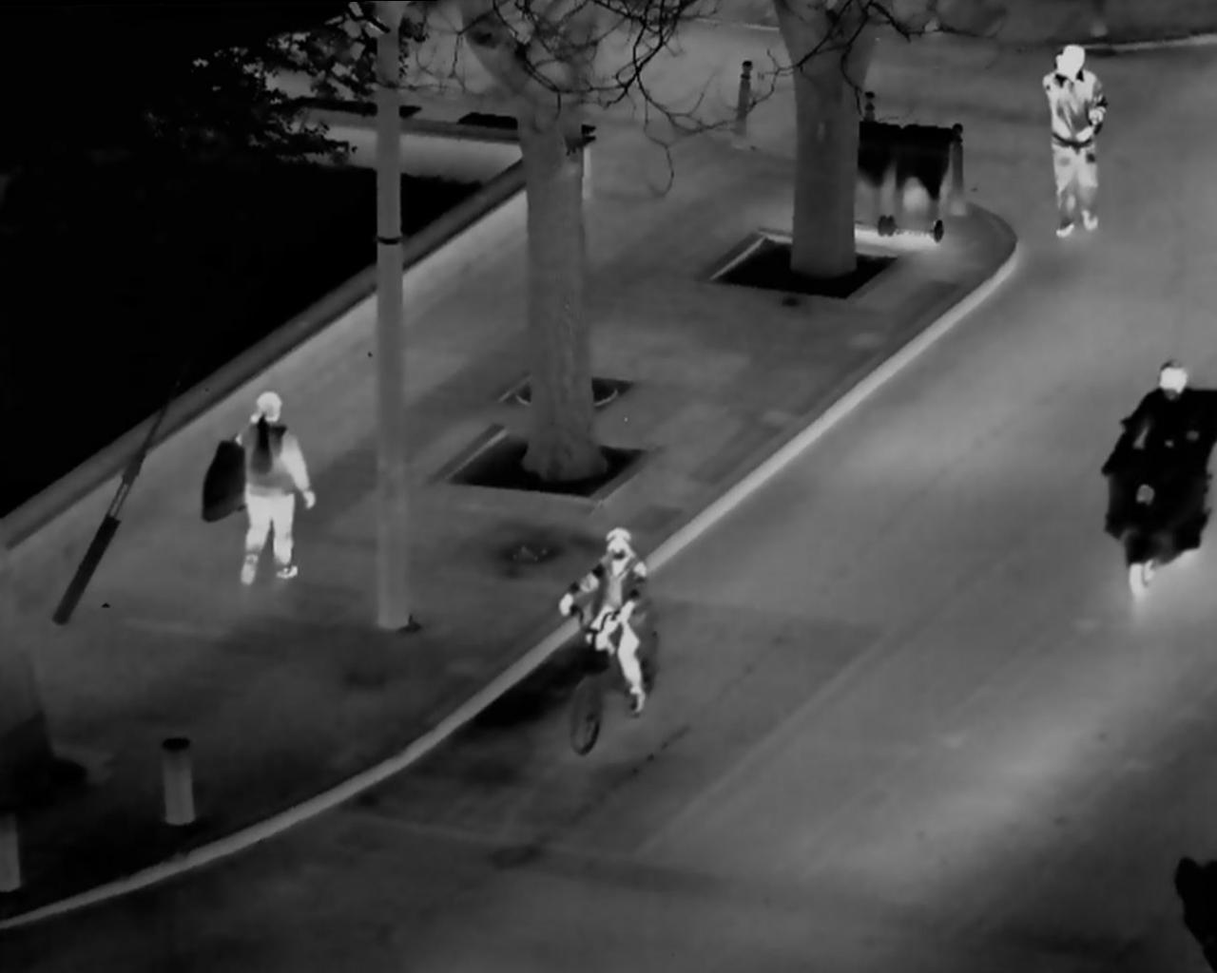person: (551, 511, 669, 736), (209, 386, 315, 608), (1119, 341, 1201, 584), (1033, 37, 1125, 249)
